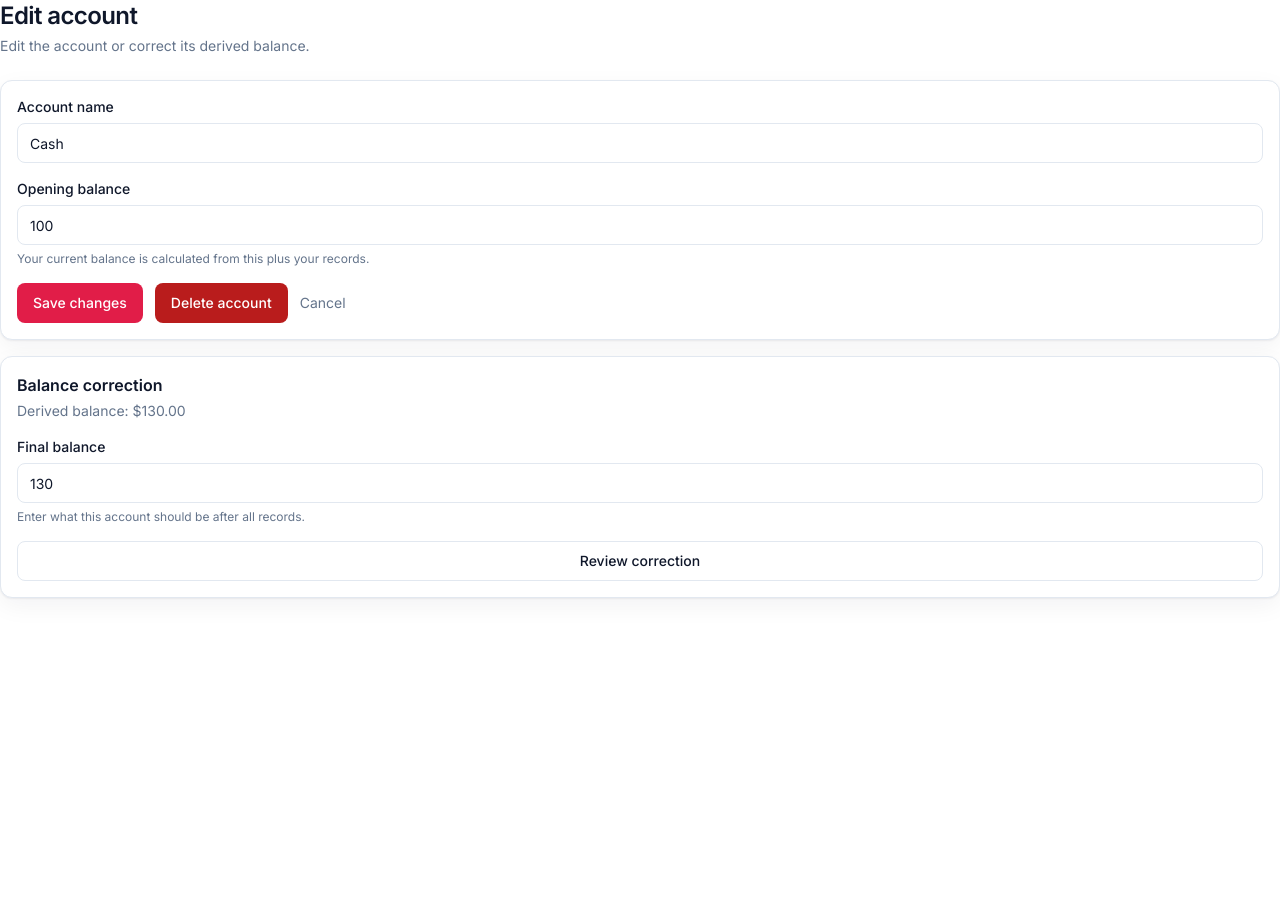
Scenario: AccountFormPage balance correction (D-020) › logs a positive difference as an income Difference record
The width and height of the screenshot is (1280, 900).
Check: the text "Derived balance: $130.00" is shown, box [17, 402, 186, 419]
Replace the text in the field labelled "Final balance" with "150" at (640, 483), box [17, 463, 1263, 503]
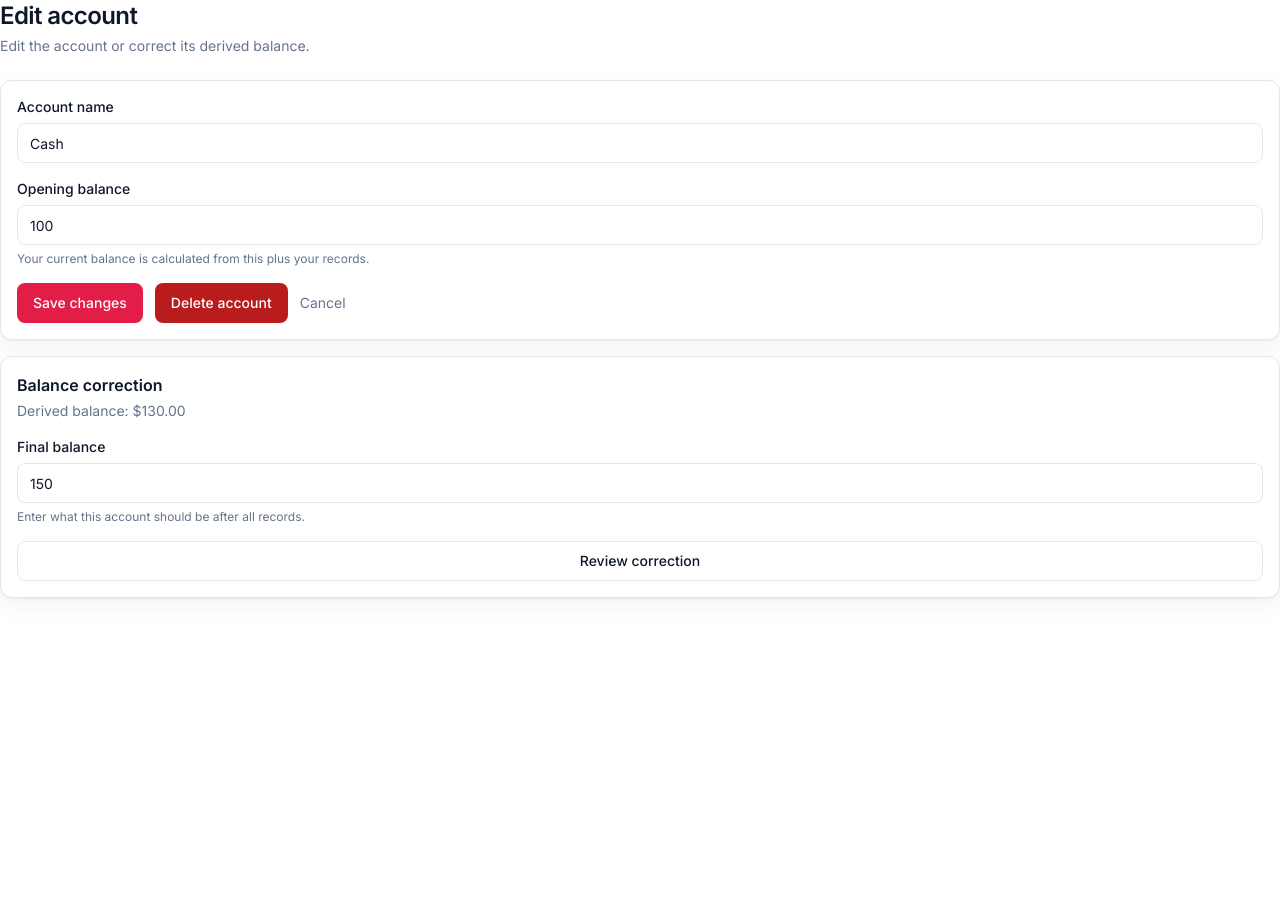
Click the button "Review correction".
click(640, 561)  # box [17, 541, 1263, 581]
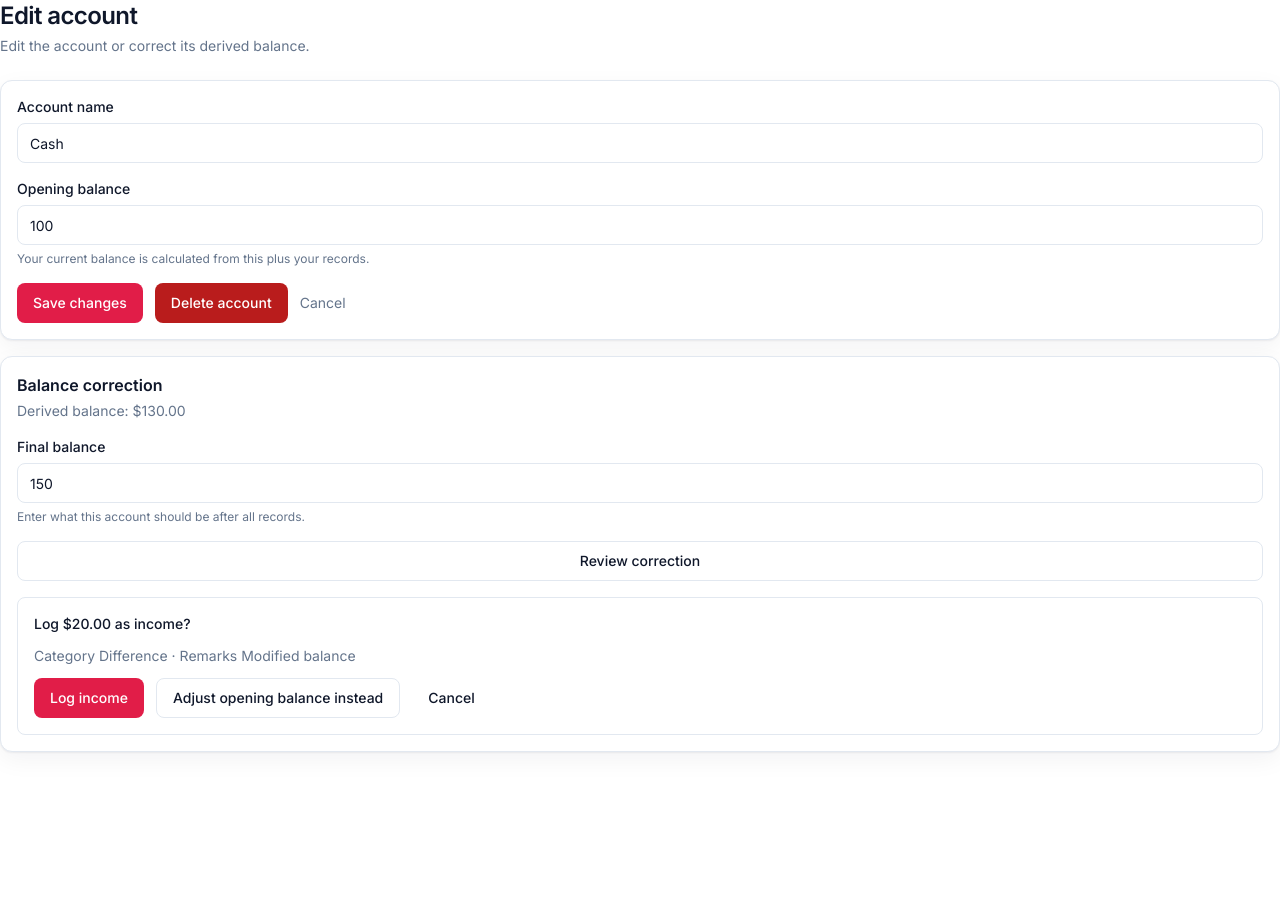
Check: the text "Log $20.00 as income?" is shown, box [34, 615, 190, 632]
Check: the text "Category Difference · Remarks Modified balance" is shown, box [34, 647, 356, 664]
Click the button "Log income".
click(89, 698)  # box [34, 678, 144, 718]
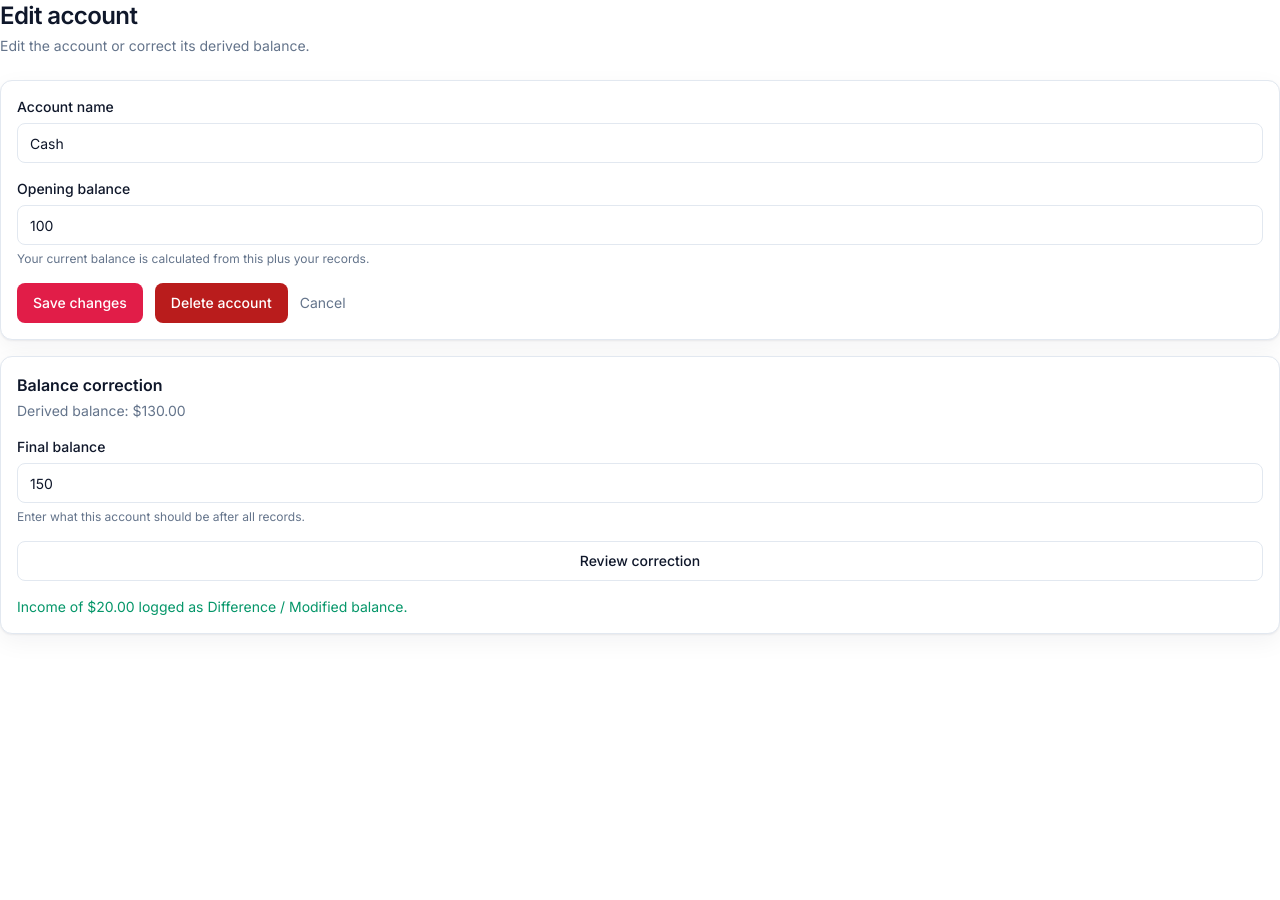
Check: the text "Income of $20.00 logged as Difference / Modified balance." is shown, box [17, 598, 408, 615]
